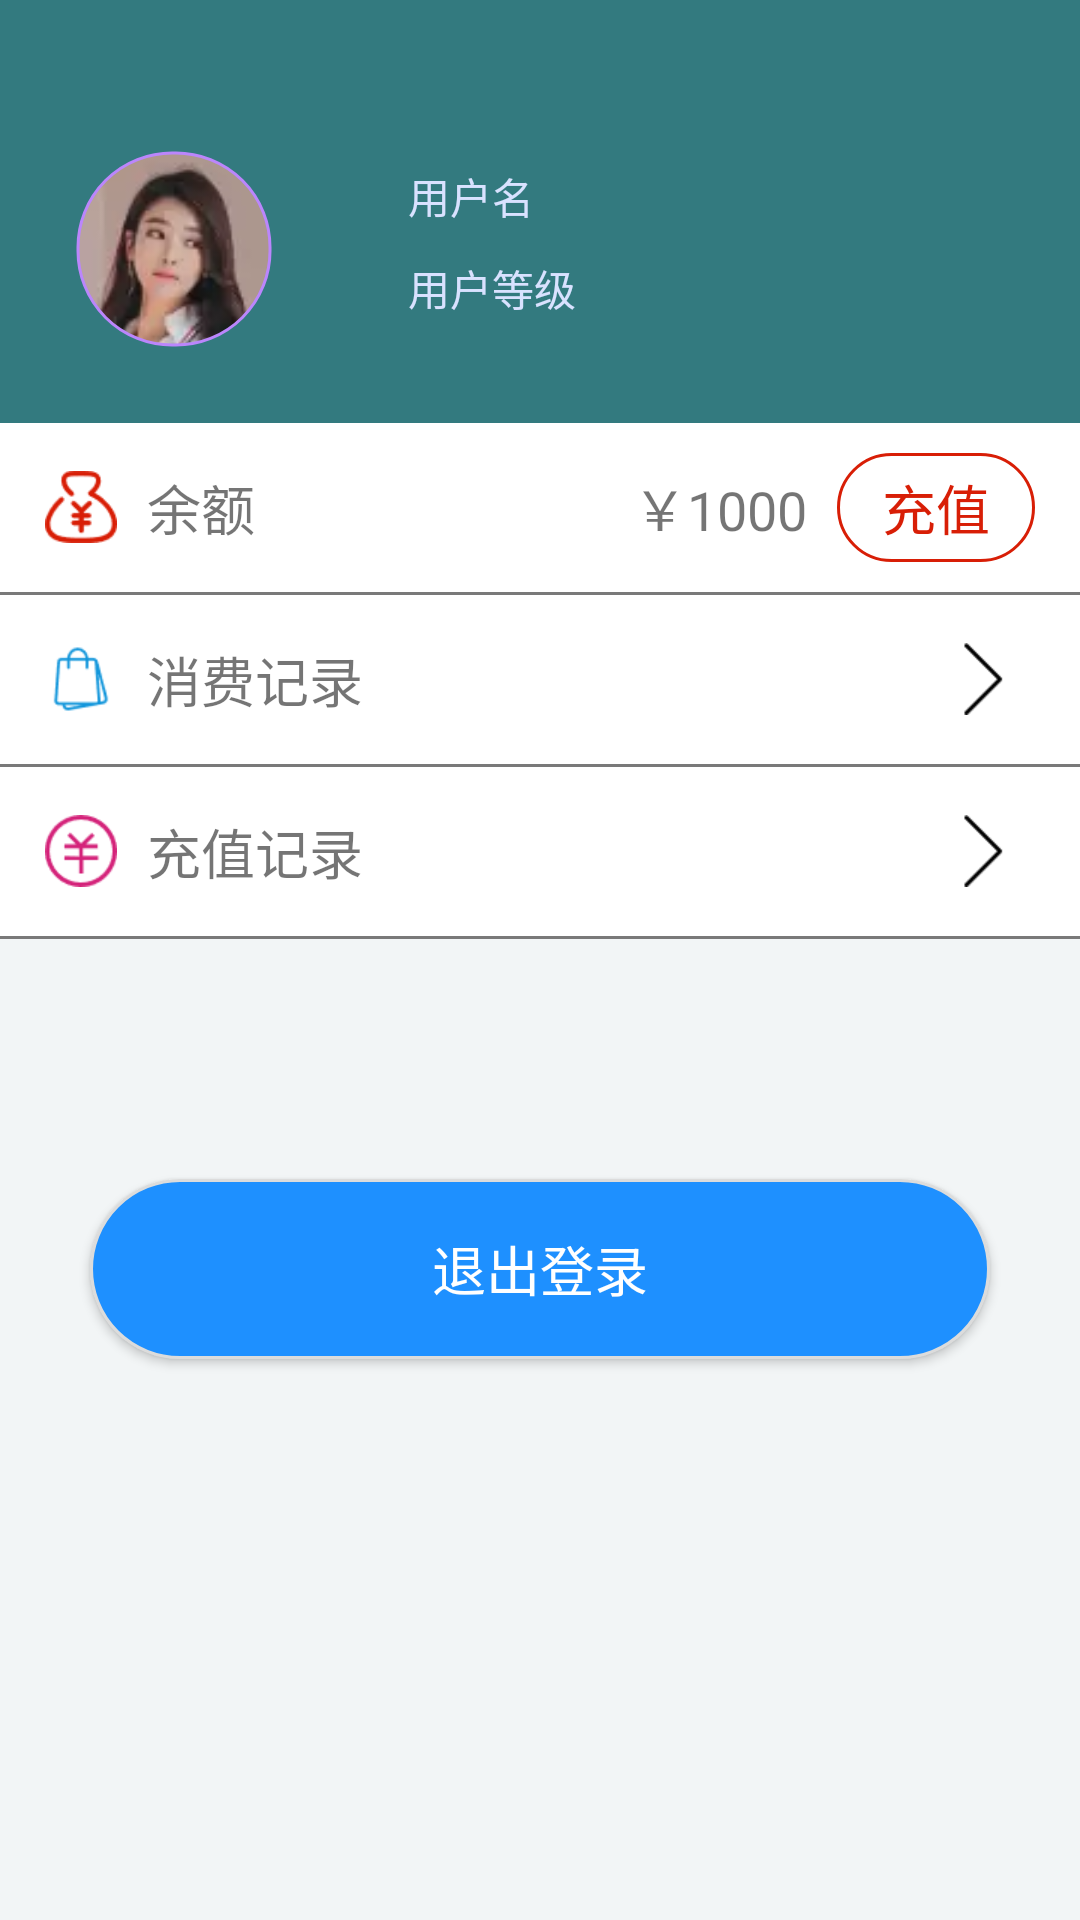

Icons on this 1080×1920 Android screen, each with the point to tap as (x=x, y=y):
balance: (x=81, y=507)
buy record: (x=80, y=679)
head: (x=174, y=249)
recharge: (x=81, y=851)
right arrow: (x=983, y=679), (x=983, y=851)
